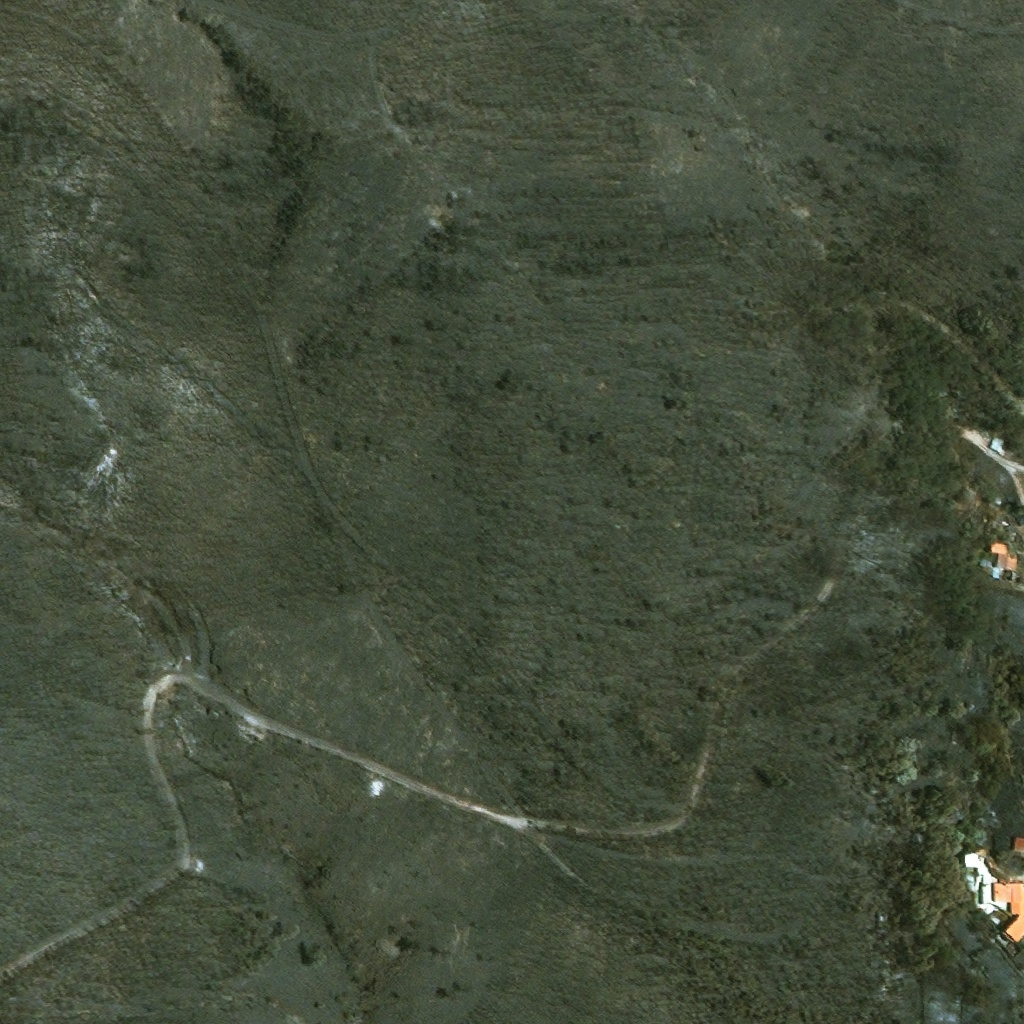0 no-damage: (965, 853, 1007, 910), (993, 882, 1023, 945), (990, 436, 1009, 457), (998, 554, 1018, 571), (992, 542, 1010, 556), (1015, 838, 1023, 849), (1011, 532, 1021, 540)
2 major-damage: (993, 567, 1023, 585)
4 un-classified: (949, 493, 978, 522), (992, 515, 1008, 531), (971, 512, 981, 522)
